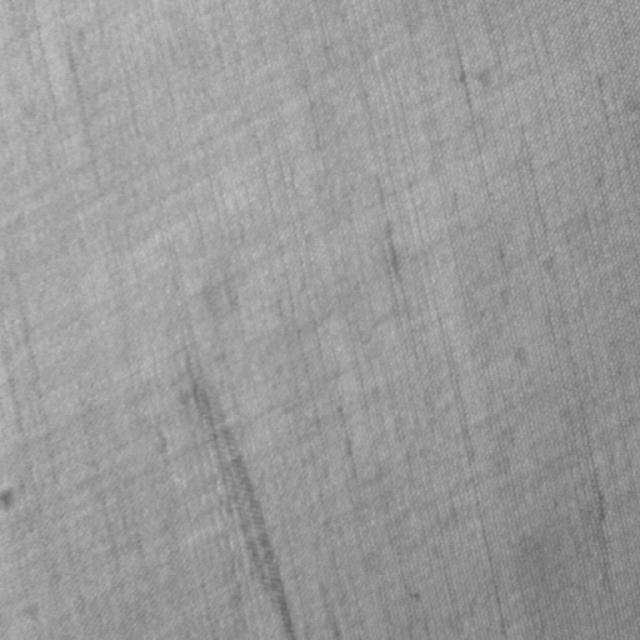oil spot: (186, 364, 298, 638)
